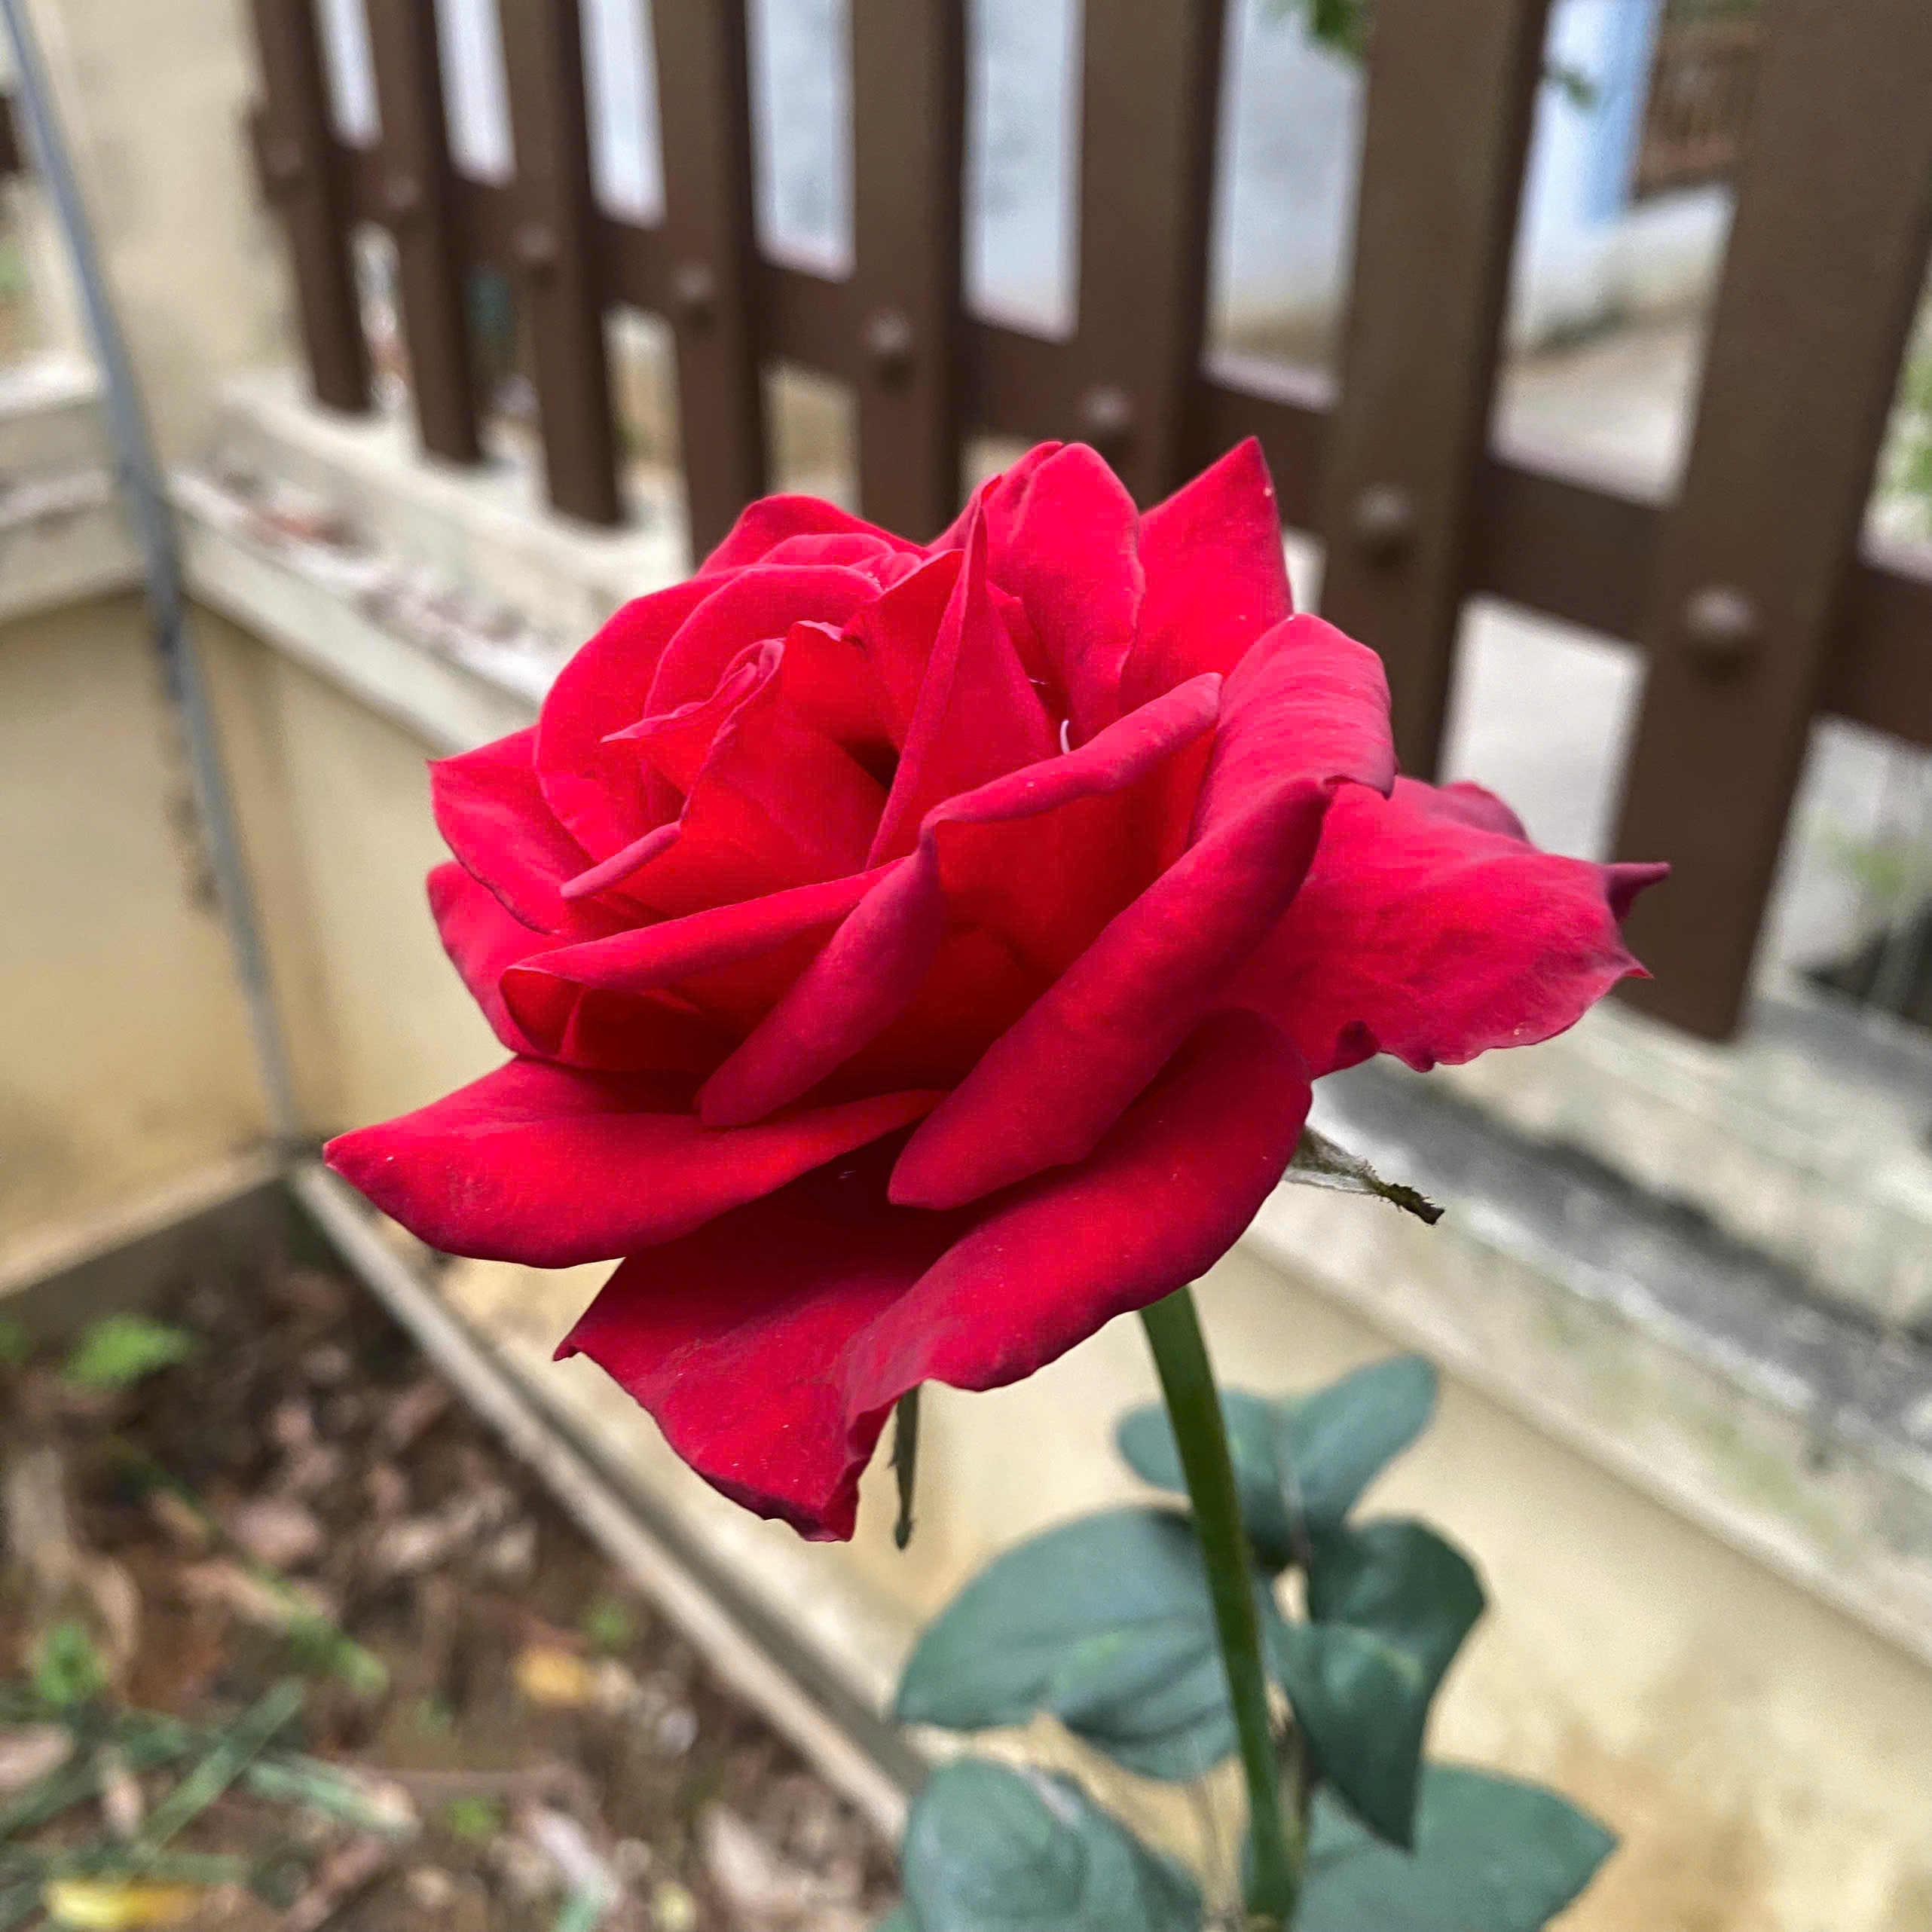hoa_hong_do: (271, 442, 1631, 1932)
